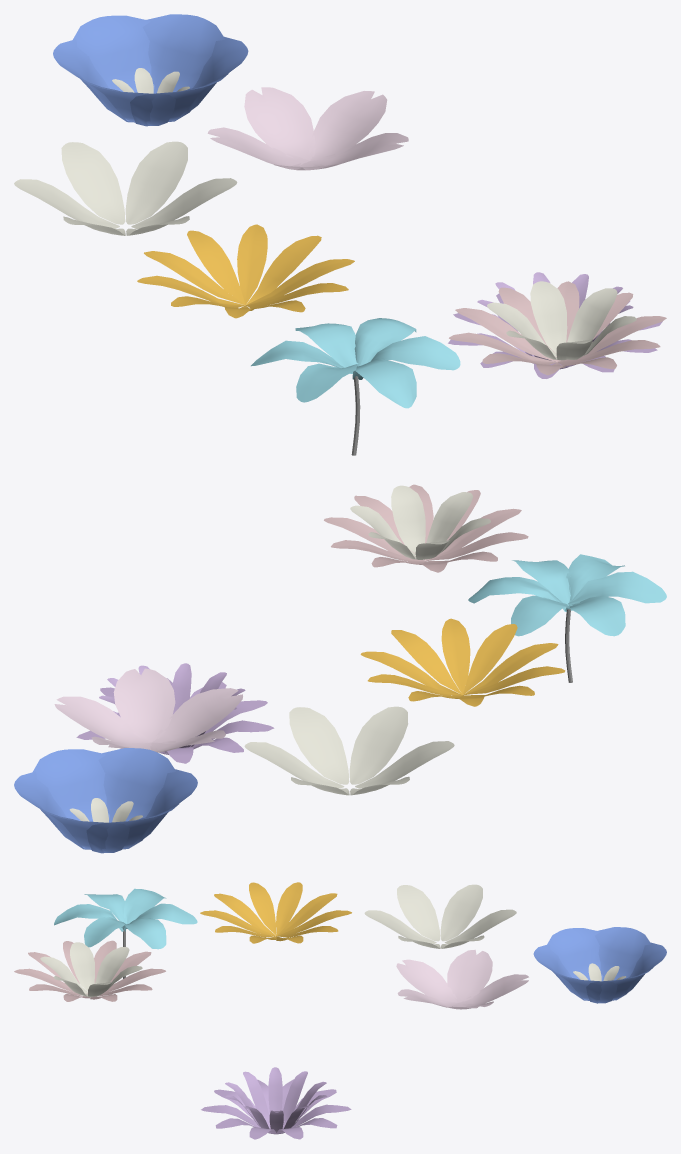
Rendered from SpreadFlower.fbx.
3 renders of one model, top to bottom at view 1: azimuth 30°, elevation 25°; view 2: azimuth 150°, elevation 25°; view 3: azimuth 270°, elevation 25°, orthographic. The views are drawn at different scales.
Visible parts, largest first — view 1: pPlane49, pPlane50, pPlane27, pPlane36, pPlane20, pPlane8, polySurface23; view 2: pPlane49, pPlane50, pPlane27, pPlane36, pPlane20, pPlane8, polySurface23; view 3: pPlane49, polySurface23, pPlane50, pPlane27, pPlane20, pPlane36, pPlane8.
Part boxes in pixels (left/top/right/bottom): pPlane49: left=53, top=14, right=248, bottom=126; pPlane50: left=449, top=281, right=666, bottom=375; pPlane27: left=14, top=141, right=237, bottom=235; pPlane36: left=207, top=87, right=408, bottom=170; pPlane20: left=137, top=224, right=354, bottom=318; pPlane8: left=251, top=318, right=460, bottom=408; polySurface23: left=448, top=272, right=662, bottom=378; pPlane49: left=14, top=748, right=197, bottom=853; pPlane50: left=324, top=484, right=528, bottom=572; pPlane27: left=244, top=706, right=454, bottom=795; pPlane36: left=54, top=668, right=242, bottom=752; pPlane20: left=360, top=618, right=565, bottom=706; pPlane8: left=468, top=554, right=666, bottom=636; polySurface23: left=76, top=663, right=274, bottom=763; pPlane49: left=533, top=927, right=666, bottom=1003; polySurface23: left=201, top=1067, right=351, bottom=1139; pPlane50: left=14, top=940, right=165, bottom=1001; pPlane27: left=364, top=884, right=516, bottom=948; pPlane20: left=200, top=882, right=351, bottom=943; pPlane36: left=396, top=949, right=528, bottom=1009; pPlane8: left=54, top=888, right=197, bottom=949.
Size of the model in its own units: 8.59 by 3.06 by 14.44.
